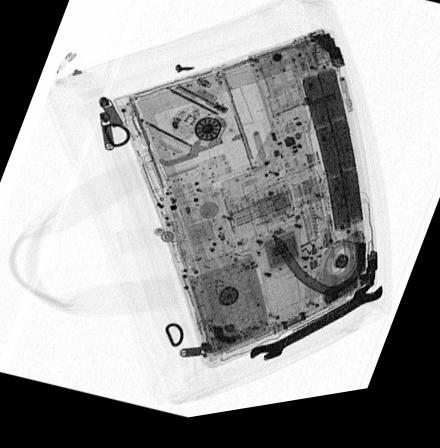Wrench: (246, 291, 382, 370)
